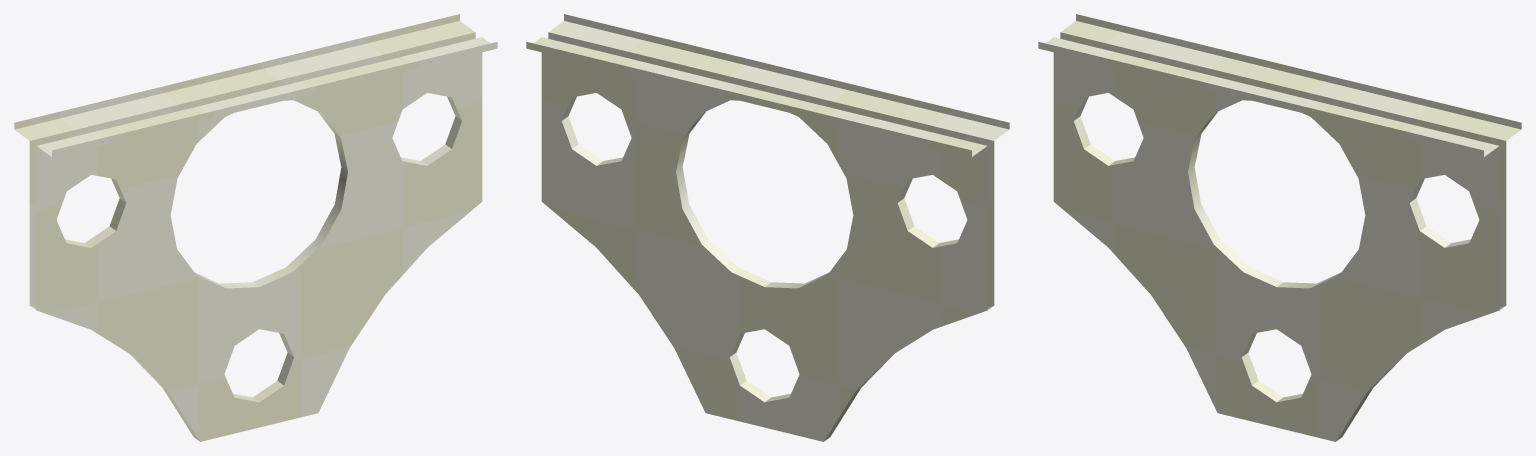
The model's file is wall_middle_struss.fbx.
3 views of the same model, side by side, from view 1: azimuth 30°, elevation 25°; view 2: azimuth 150°, elevation 25°; view 3: azimuth 330°, elevation 25° (orthographic).
Parts seen in each view (by area): view 1: wall_middle_struss; view 2: wall_middle_struss; view 3: wall_middle_struss.
Part boxes in pixels (<box>): wall_middle_struss: <box>14,14,497,441</box>; wall_middle_struss: <box>526,14,1009,441</box>; wall_middle_struss: <box>1038,14,1521,441</box>.
Bounding box in the file's own units: 136 × 100 × 20.
